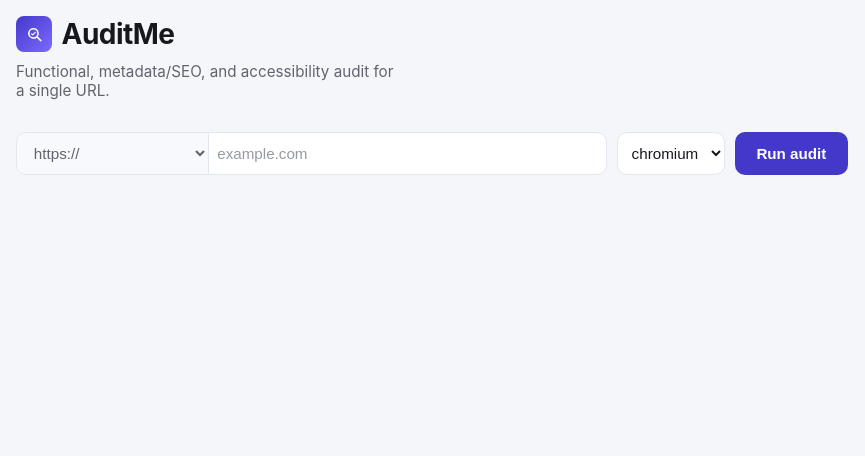
it: App › AI summary › shows an error message when the summary request fails
This screenshot has width=865, height=456.
Type "https://example.com" into the field with placeholder "example.com" at (408, 153), box [209,133,606,174]
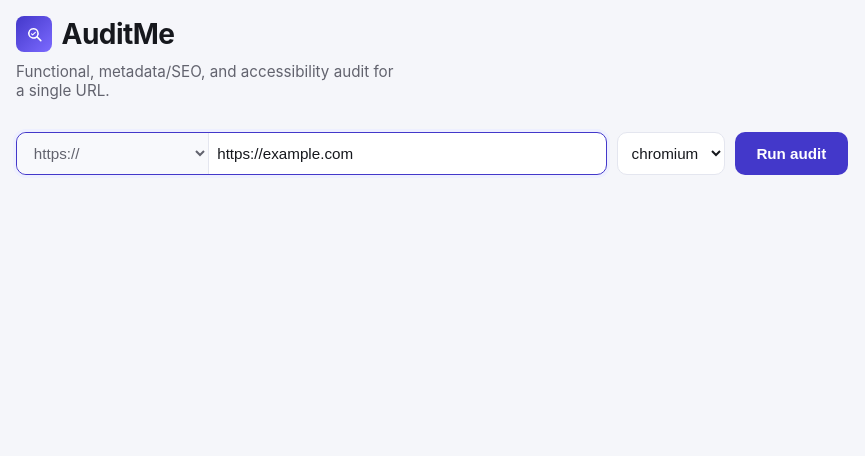
Click the button "Run audit" at (791, 153), box [735,132,848,175]
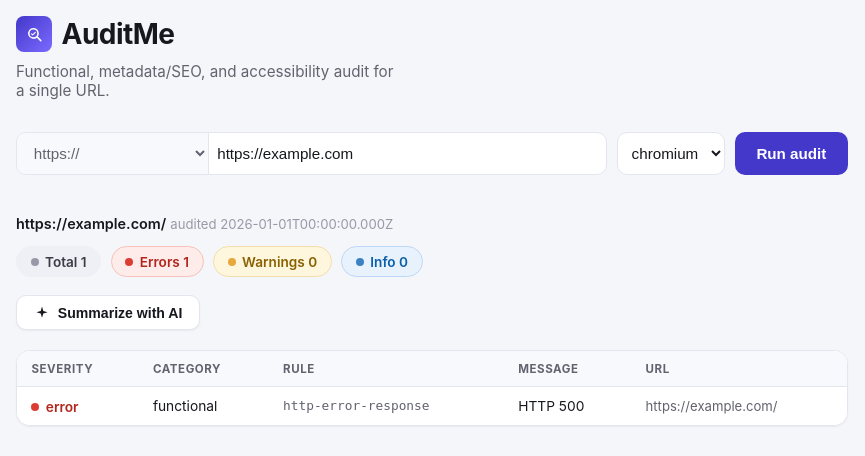
Click the button "Summarize with AI" at (108, 312), box [16,295,200,330]
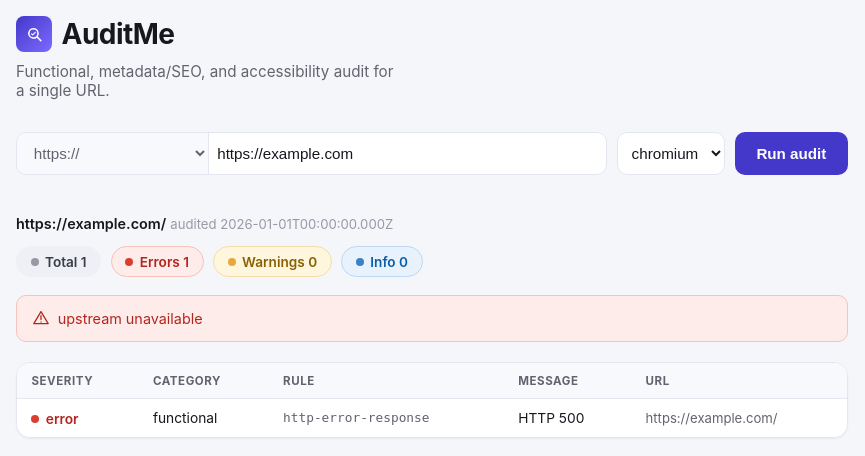
Result: the text "upstream unavailable" is shown at [16,295,848,342]
